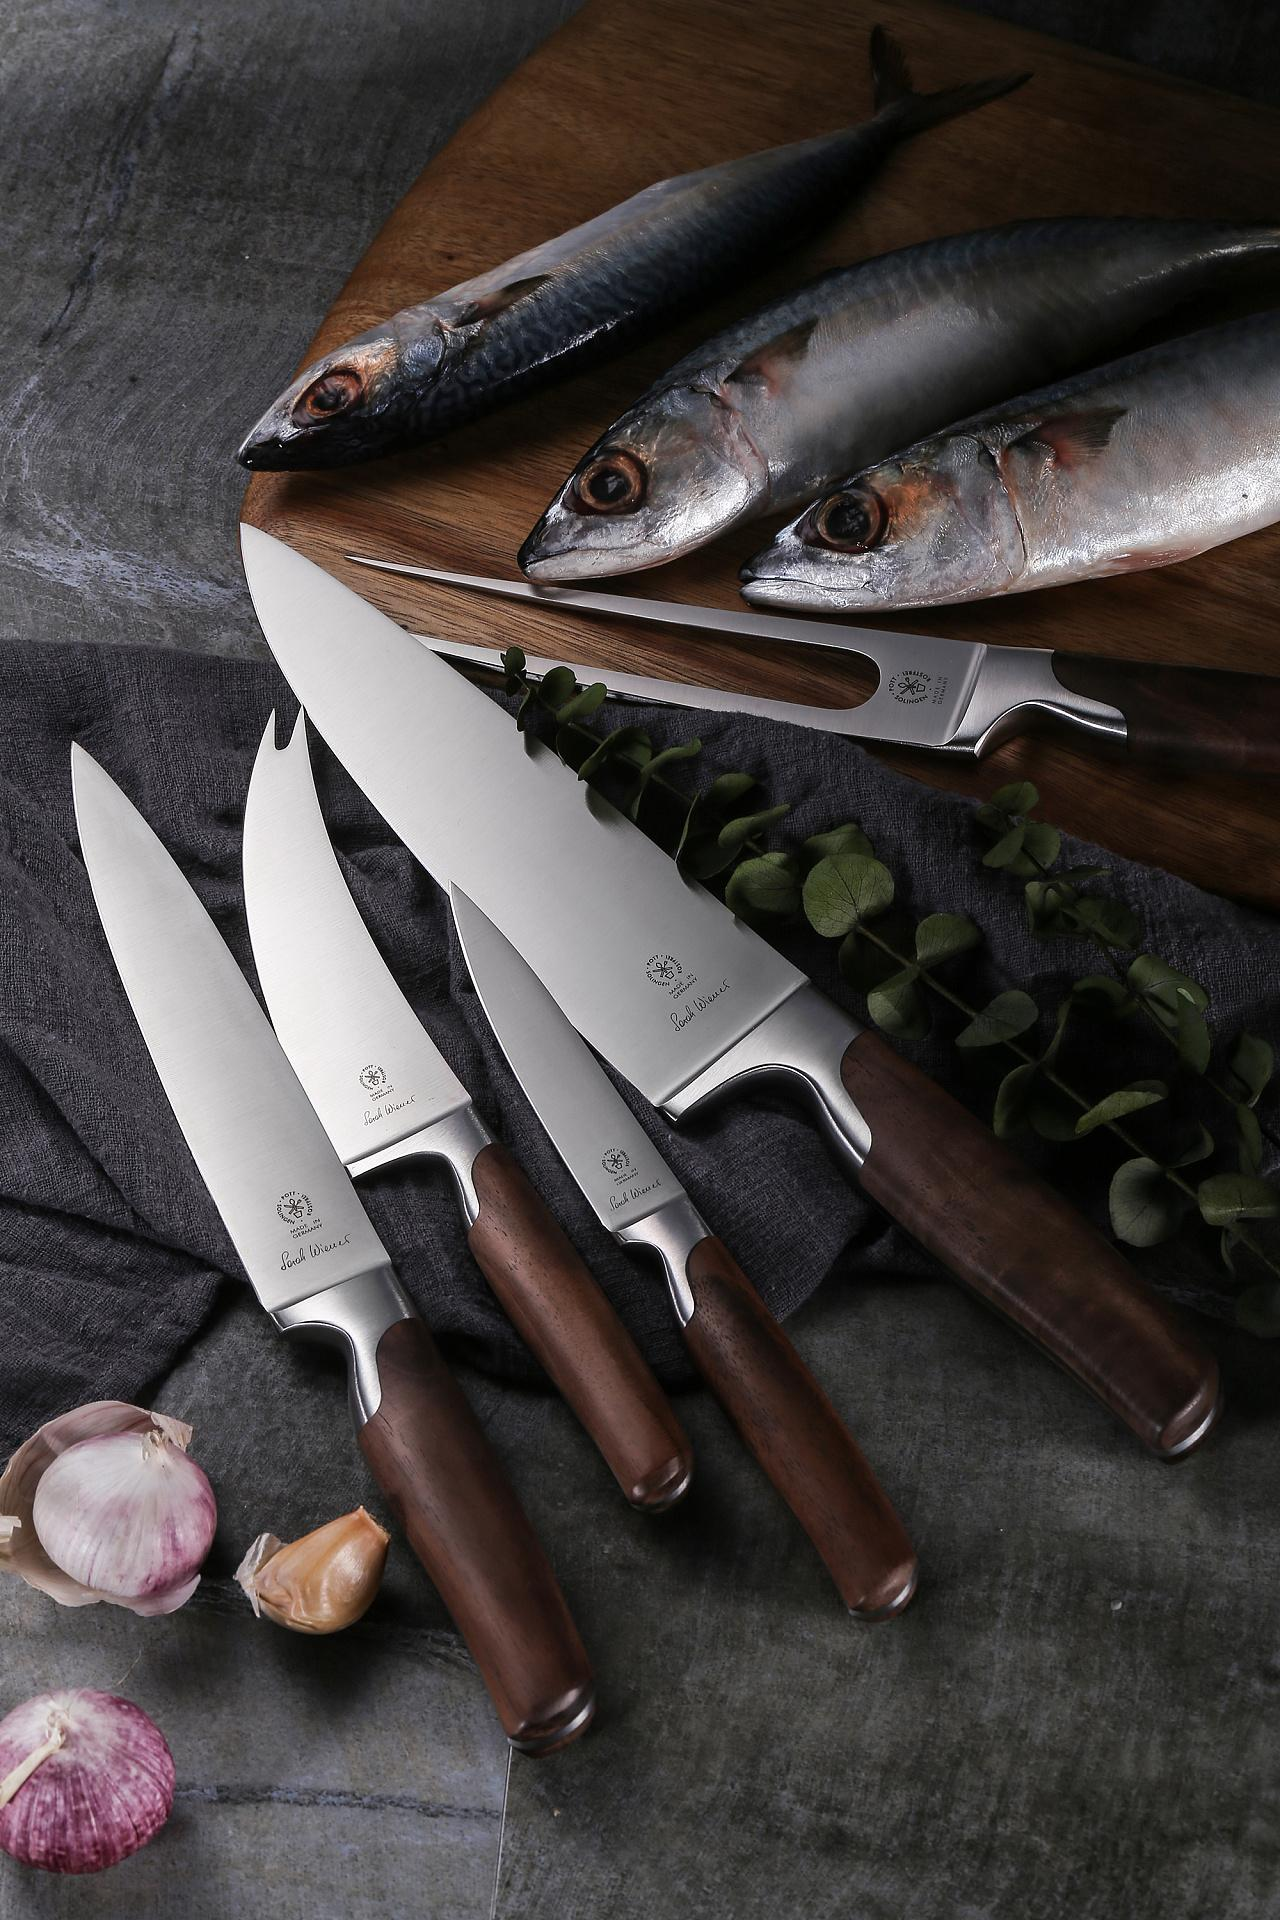knife: (59, 509, 1213, 1800)
